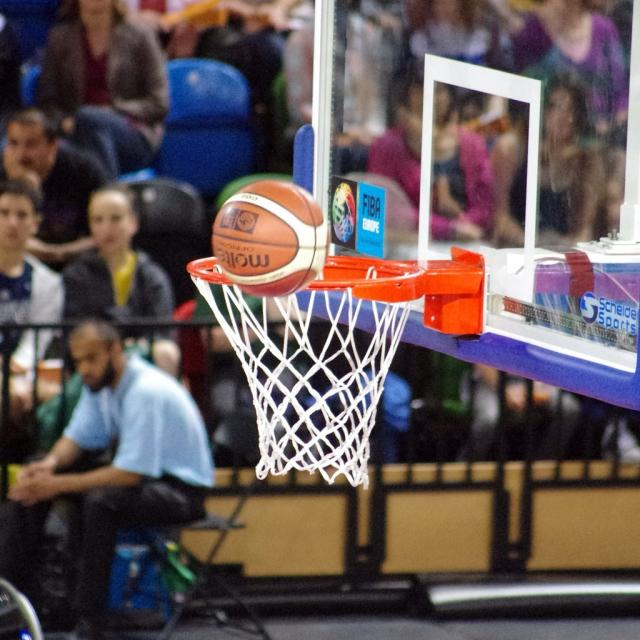basketball: (211, 179, 328, 297)
hoop: (185, 253, 417, 488)
